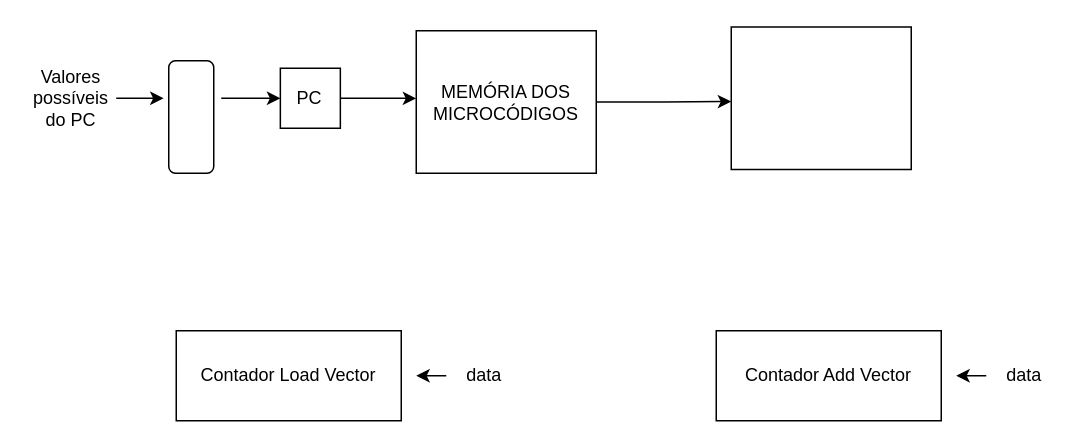
The diagram is 1086 pixels wide and 447 high, and some of its shapes have lost their labels. Here are the shapes that lost their labels. From the top down, the centre of each, then its label:
point 190,116: MUX
point 820,98: PROCESSADOR MONOCICLO
